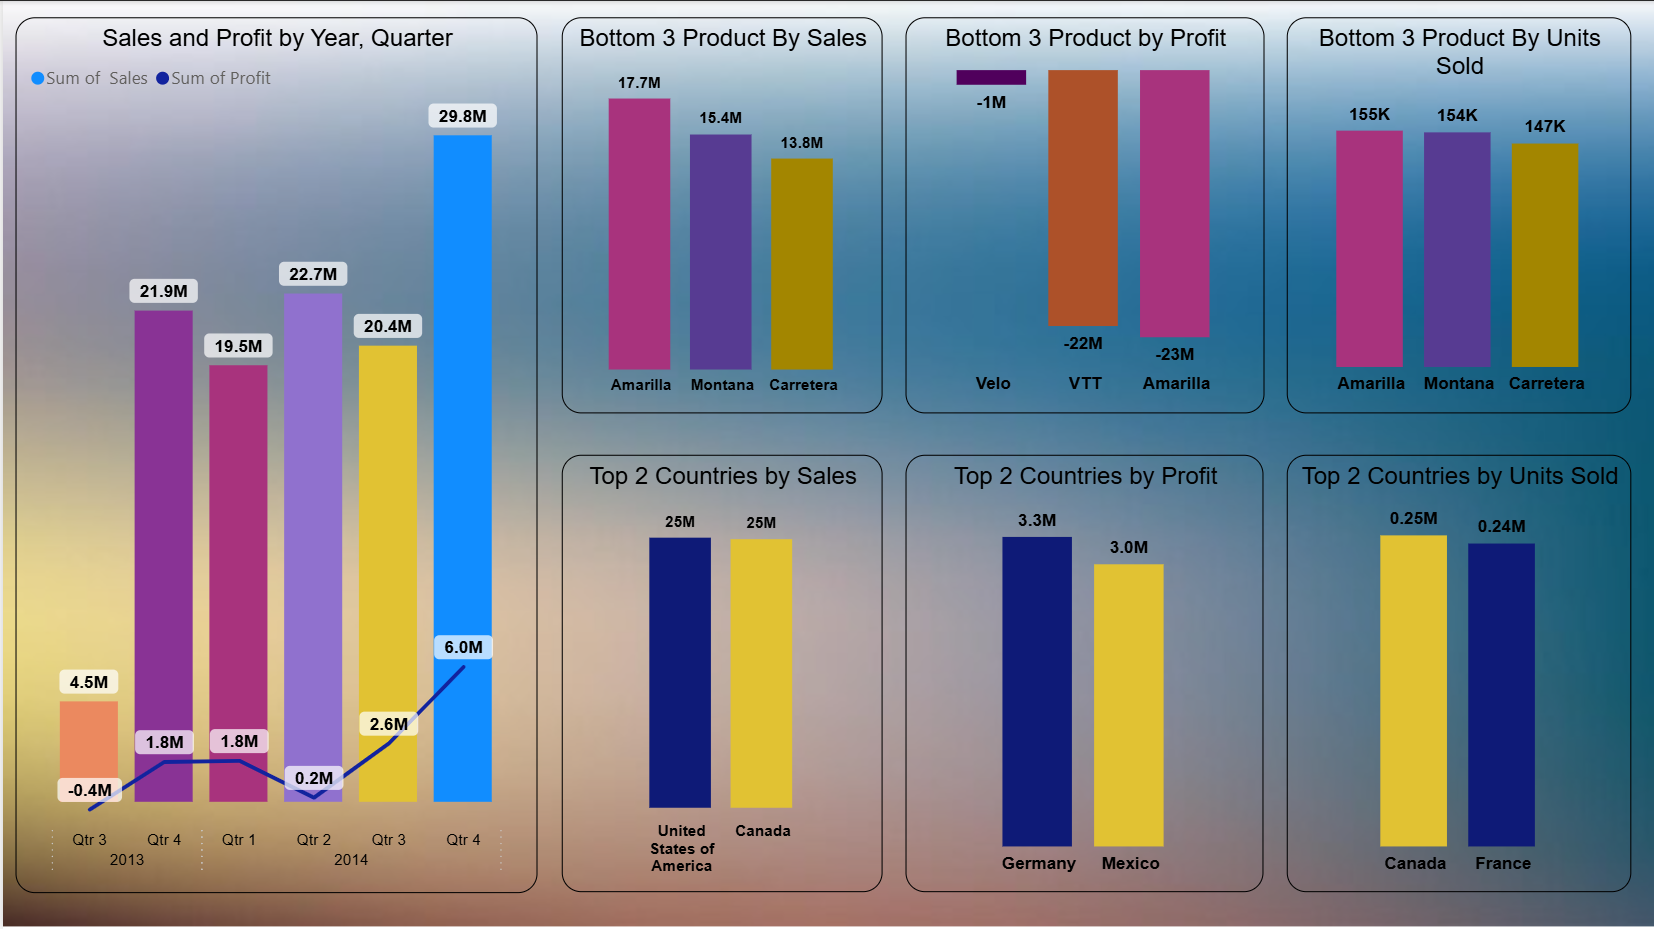

The page's visual inventory and layout, read from the dashboard file:
{"tool":"powerbi","page":{"name":"Dashboard_3","canvas":[1280,720],"ordinal":2},"visuals":[{"type":"lineStackedColumnComboChart","title":" Sales and Profit by Year, Quarter ","fields":{"Y":["Sum(Cleaned_Data. Sales)"],"Y2":["Sum(Cleaned_Data.Profit)"],"Category":["Cleaned_Data.Date.Variation.Date Hierarchy.Year","Cleaned_Data.Date.Variation.Date Hierarchy.Quarter"]},"box":[9.3,12.8,404.7,679.1],"z":0},{"type":"clusteredColumnChart","title":"Top 2 Countries by Sales","fields":{"Category":["Cleaned_Data.Country"],"Y":["Sum(Cleaned_Data. Sales)"]},"box":[433.7,352.3,248.8,339.5],"z":1000},{"type":"clusteredColumnChart","title":"Top 2 Countries by Profit","fields":{"Category":["Cleaned_Data.Country"],"Y":["Sum(Cleaned_Data.Profit)"]},"box":[700,352.3,277.9,339.5],"z":2000},{"type":"clusteredColumnChart","title":"Top 2 Countries by Units Sold","fields":{"Category":["Cleaned_Data.Country"],"Y":["Sum(Cleaned_Data.Units Sold)"]},"box":[995.4,352.3,267.4,339.5],"z":3000},{"type":"clusteredColumnChart","title":"Bottom 3  Product By Sales","fields":{"Category":["Cleaned_Data.Product"],"Y":["Sum(Cleaned_Data. Sales)"]},"box":[433.7,12.8,248.8,307],"z":4000},{"type":"clusteredColumnChart","title":"Bottom 3 Product by Profit","fields":{"Category":["Cleaned_Data.Product"],"Y":["Sum(Cleaned_Data.Profit)"]},"box":[700,13,278,307],"z":5000},{"type":"clusteredColumnChart","title":"Bottom 3 Product By Units Sold","fields":{"Category":["Cleaned_Data.Product"],"Y":["Sum(Cleaned_Data.Units Sold)"]},"box":[995,13,267,307],"z":6000}]}

Visuals, with their boxes in screenshot pixels (x1, y1, x2, y2), scaled from the page's 1280x720 canvas onto the 1654x929 screenshot:
" Sales and Profit by Year, Quarter " lineStackedColumnComboChart: (12, 17, 535, 893)
"Top 2 Countries by Sales" clusteredColumnChart: (560, 455, 882, 893)
"Top 2 Countries by Profit" clusteredColumnChart: (905, 455, 1264, 893)
"Top 2 Countries by Units Sold" clusteredColumnChart: (1286, 455, 1632, 893)
"Bottom 3  Product By Sales" clusteredColumnChart: (560, 17, 882, 413)
"Bottom 3 Product by Profit" clusteredColumnChart: (905, 17, 1264, 413)
"Bottom 3 Product By Units Sold" clusteredColumnChart: (1286, 17, 1631, 413)
